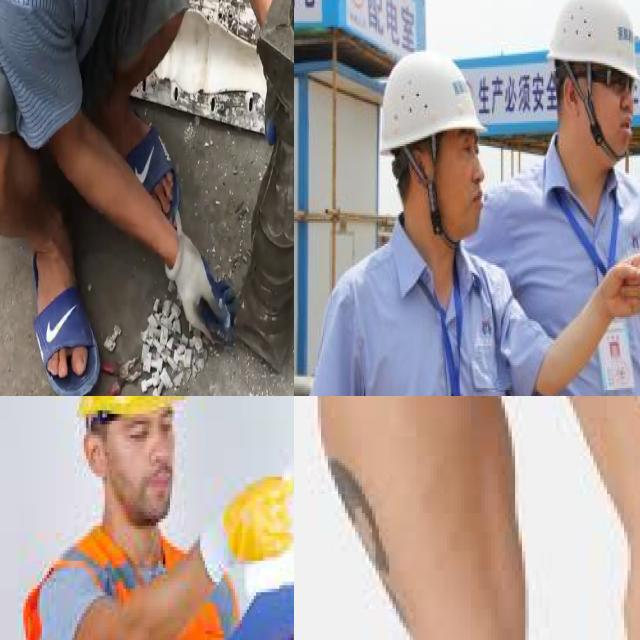No_Ear-Protection: (385, 69, 482, 249), (554, 8, 635, 178), (84, 436, 105, 476)
No_Glasses: (110, 409, 173, 462)
Sandals: (31, 221, 99, 396)
face_nomask: (105, 448, 172, 526)
hand_glove: (162, 216, 236, 348), (200, 481, 294, 583)
